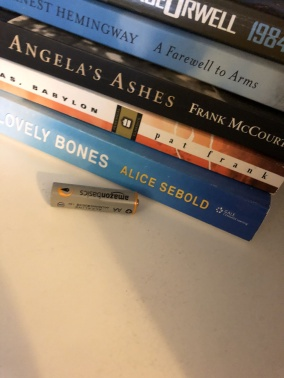battery: (45, 178, 142, 220)
